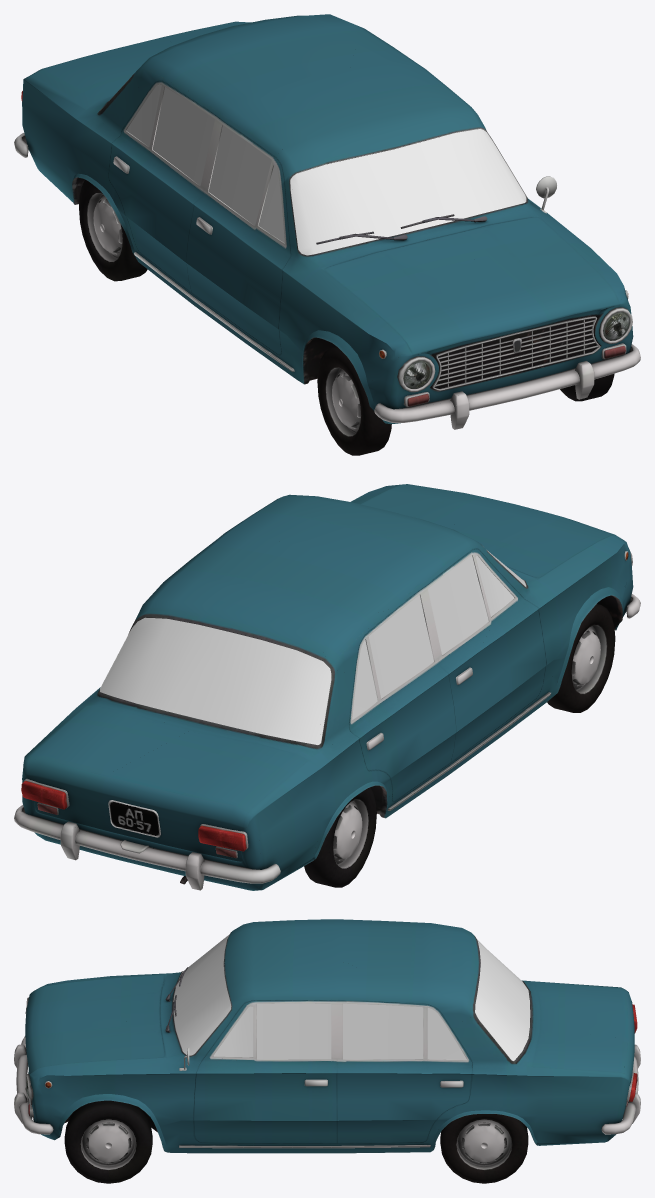
File: vaz1201.gltf
3 views of the same model, one above another, from view 1: azimuth 30°, elevation 25°; view 2: azimuth 150°, elevation 25°; view 3: azimuth 270°, elevation 25° (orthographic). The views are drawn at different scales.
Visible parts, largest first — view 1: vaz1201; view 2: vaz1201; view 3: vaz1201.
Boxes of the visible parts, x1,y1,x2,y2 form: vaz1201: (14, 14, 640, 455); vaz1201: (14, 484, 640, 890); vaz1201: (14, 919, 640, 1183).
Size of the model in its own units: 1.63 by 1.35 by 4.07.
Materials: 2 (1 with a texture image).
